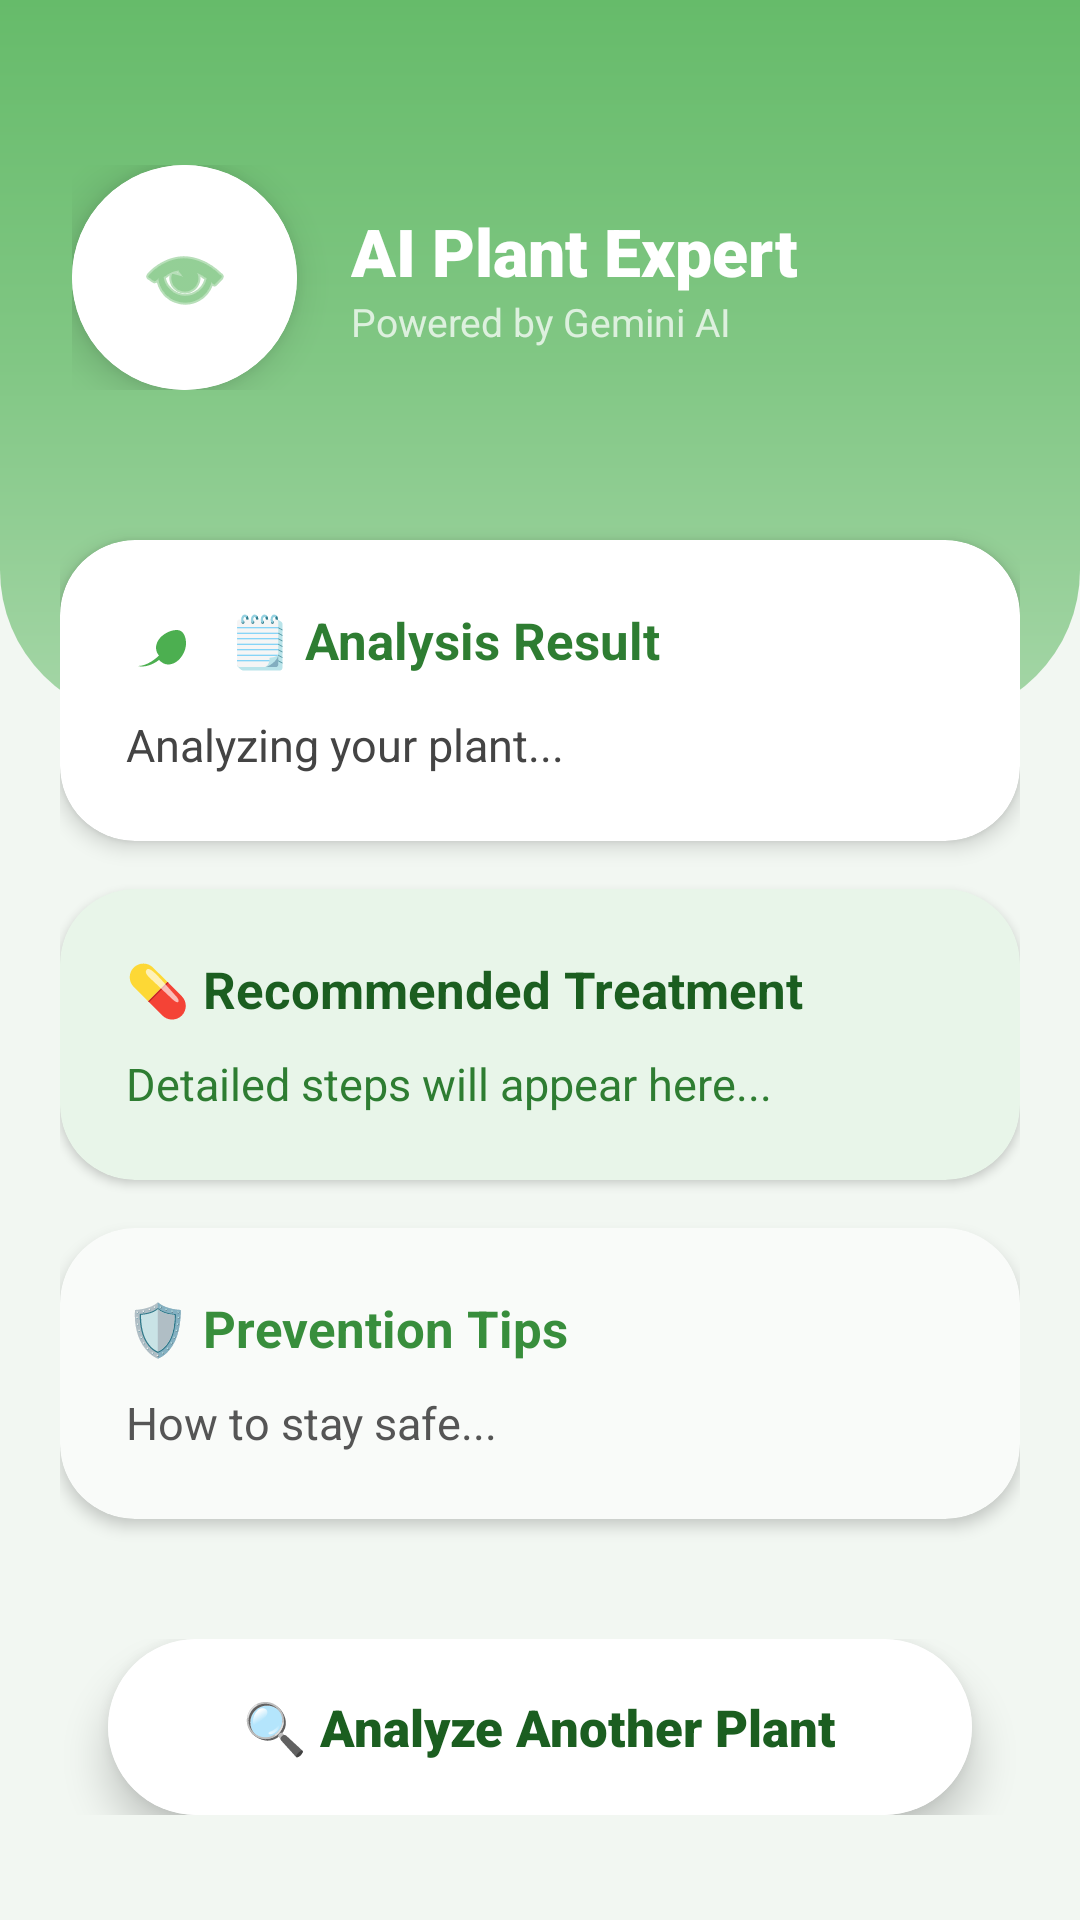

Icon bounding boxes for this 1080 x 1920 phone screenshot, format {"x1": x1, "y1": y1, "x2": x2, "y2": y2}:
view: {"x1": 72, "y1": 165, "x2": 297, "y2": 390}
